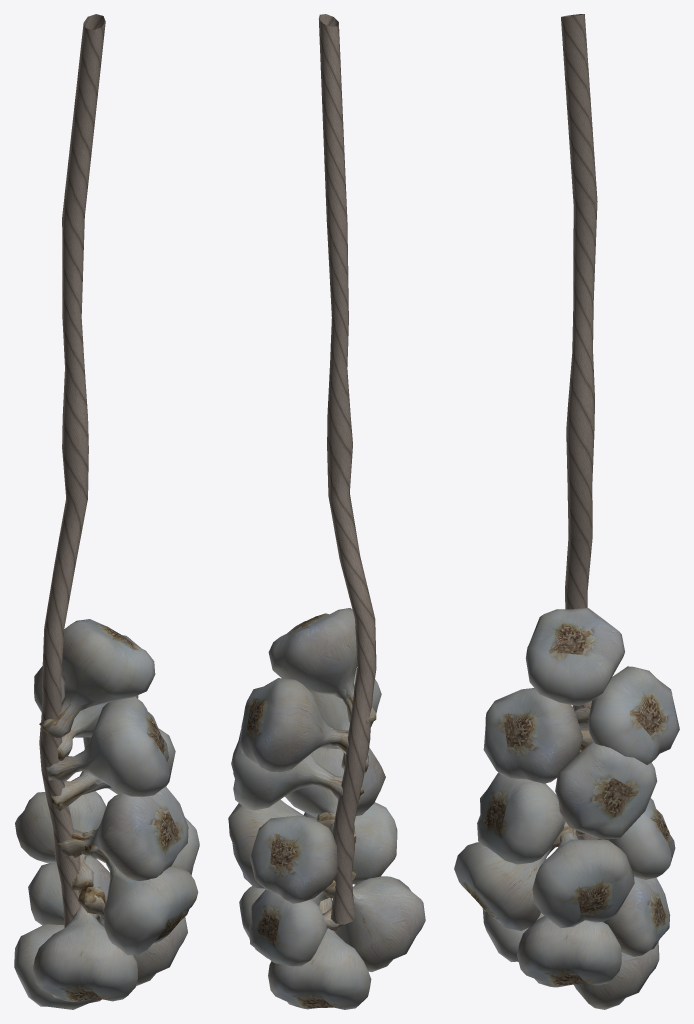
The model's file is SM_GarlicBraid2.fbx.
3 views of the same model, side by side, from view 1: azimuth 30°, elevation 25°; view 2: azimuth 150°, elevation 25°; view 3: azimuth 270°, elevation 25° (orthographic).
Parts seen in each view (by area): view 1: SM_GarlicBraid2_LOD0; view 2: SM_GarlicBraid2_LOD0; view 3: SM_GarlicBraid2_LOD0.
Boxes of the visible parts, <box> form: SM_GarlicBraid2_LOD0: <box>14,14,199,1009</box>; SM_GarlicBraid2_LOD0: <box>228,14,425,1009</box>; SM_GarlicBraid2_LOD0: <box>454,14,679,1009</box>.
Size of the model in its own units: 19.36 by 22.41 by 109.
